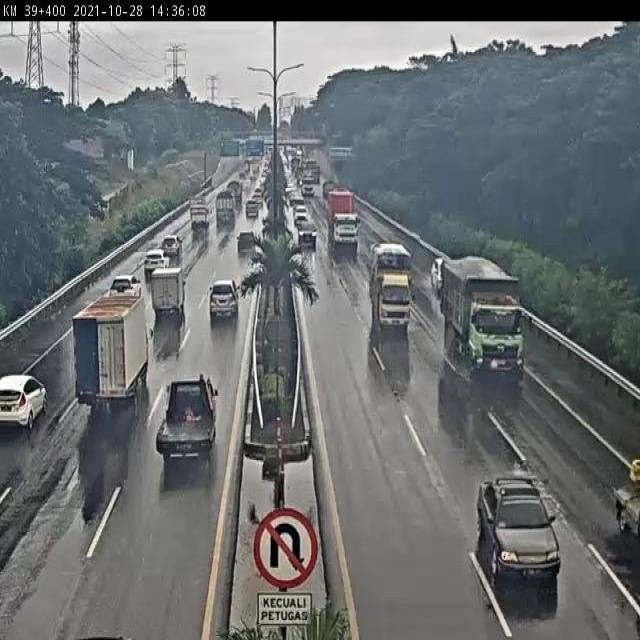big truck: (76, 283, 156, 405), (439, 262, 526, 362), (330, 190, 364, 258), (218, 196, 237, 229)
car: (478, 480, 562, 572), (154, 373, 216, 476), (0, 366, 55, 438), (605, 459, 640, 565), (208, 277, 244, 344), (151, 276, 190, 335), (429, 247, 449, 280), (107, 280, 135, 303), (158, 238, 183, 262), (143, 255, 162, 281), (236, 241, 255, 256), (244, 203, 257, 221), (306, 222, 316, 242), (296, 201, 305, 220)
small truck: (362, 264, 415, 337), (187, 202, 207, 230)
